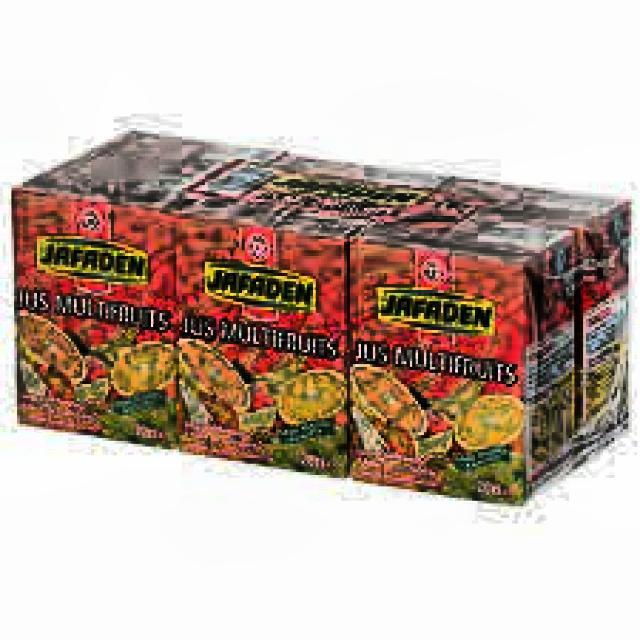cardboard: (6, 125, 634, 506)
